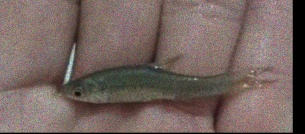fry: (41, 42, 268, 112)
